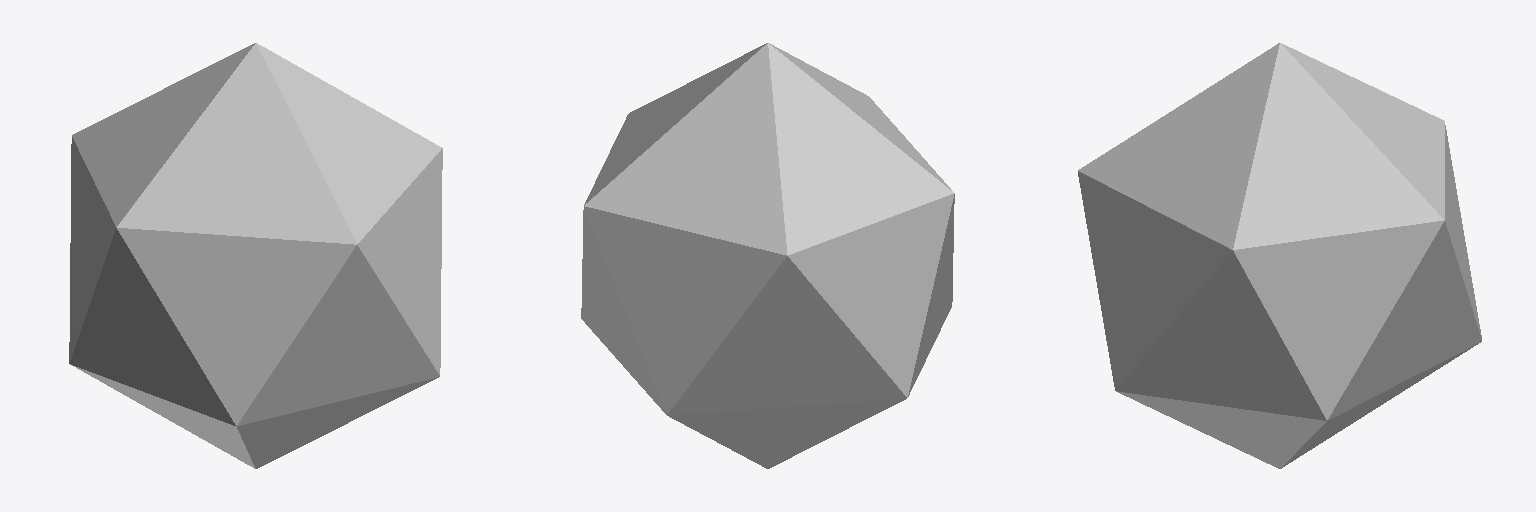
The model's file is gabarit.obj.
The picture shows the model from 3 angles: view 1: azimuth 30°, elevation 25°; view 2: azimuth 150°, elevation 25°; view 3: azimuth 270°, elevation 25°; orthographic projection.
Bounding box in the file's own units: 1.6 × 2 × 1.72.